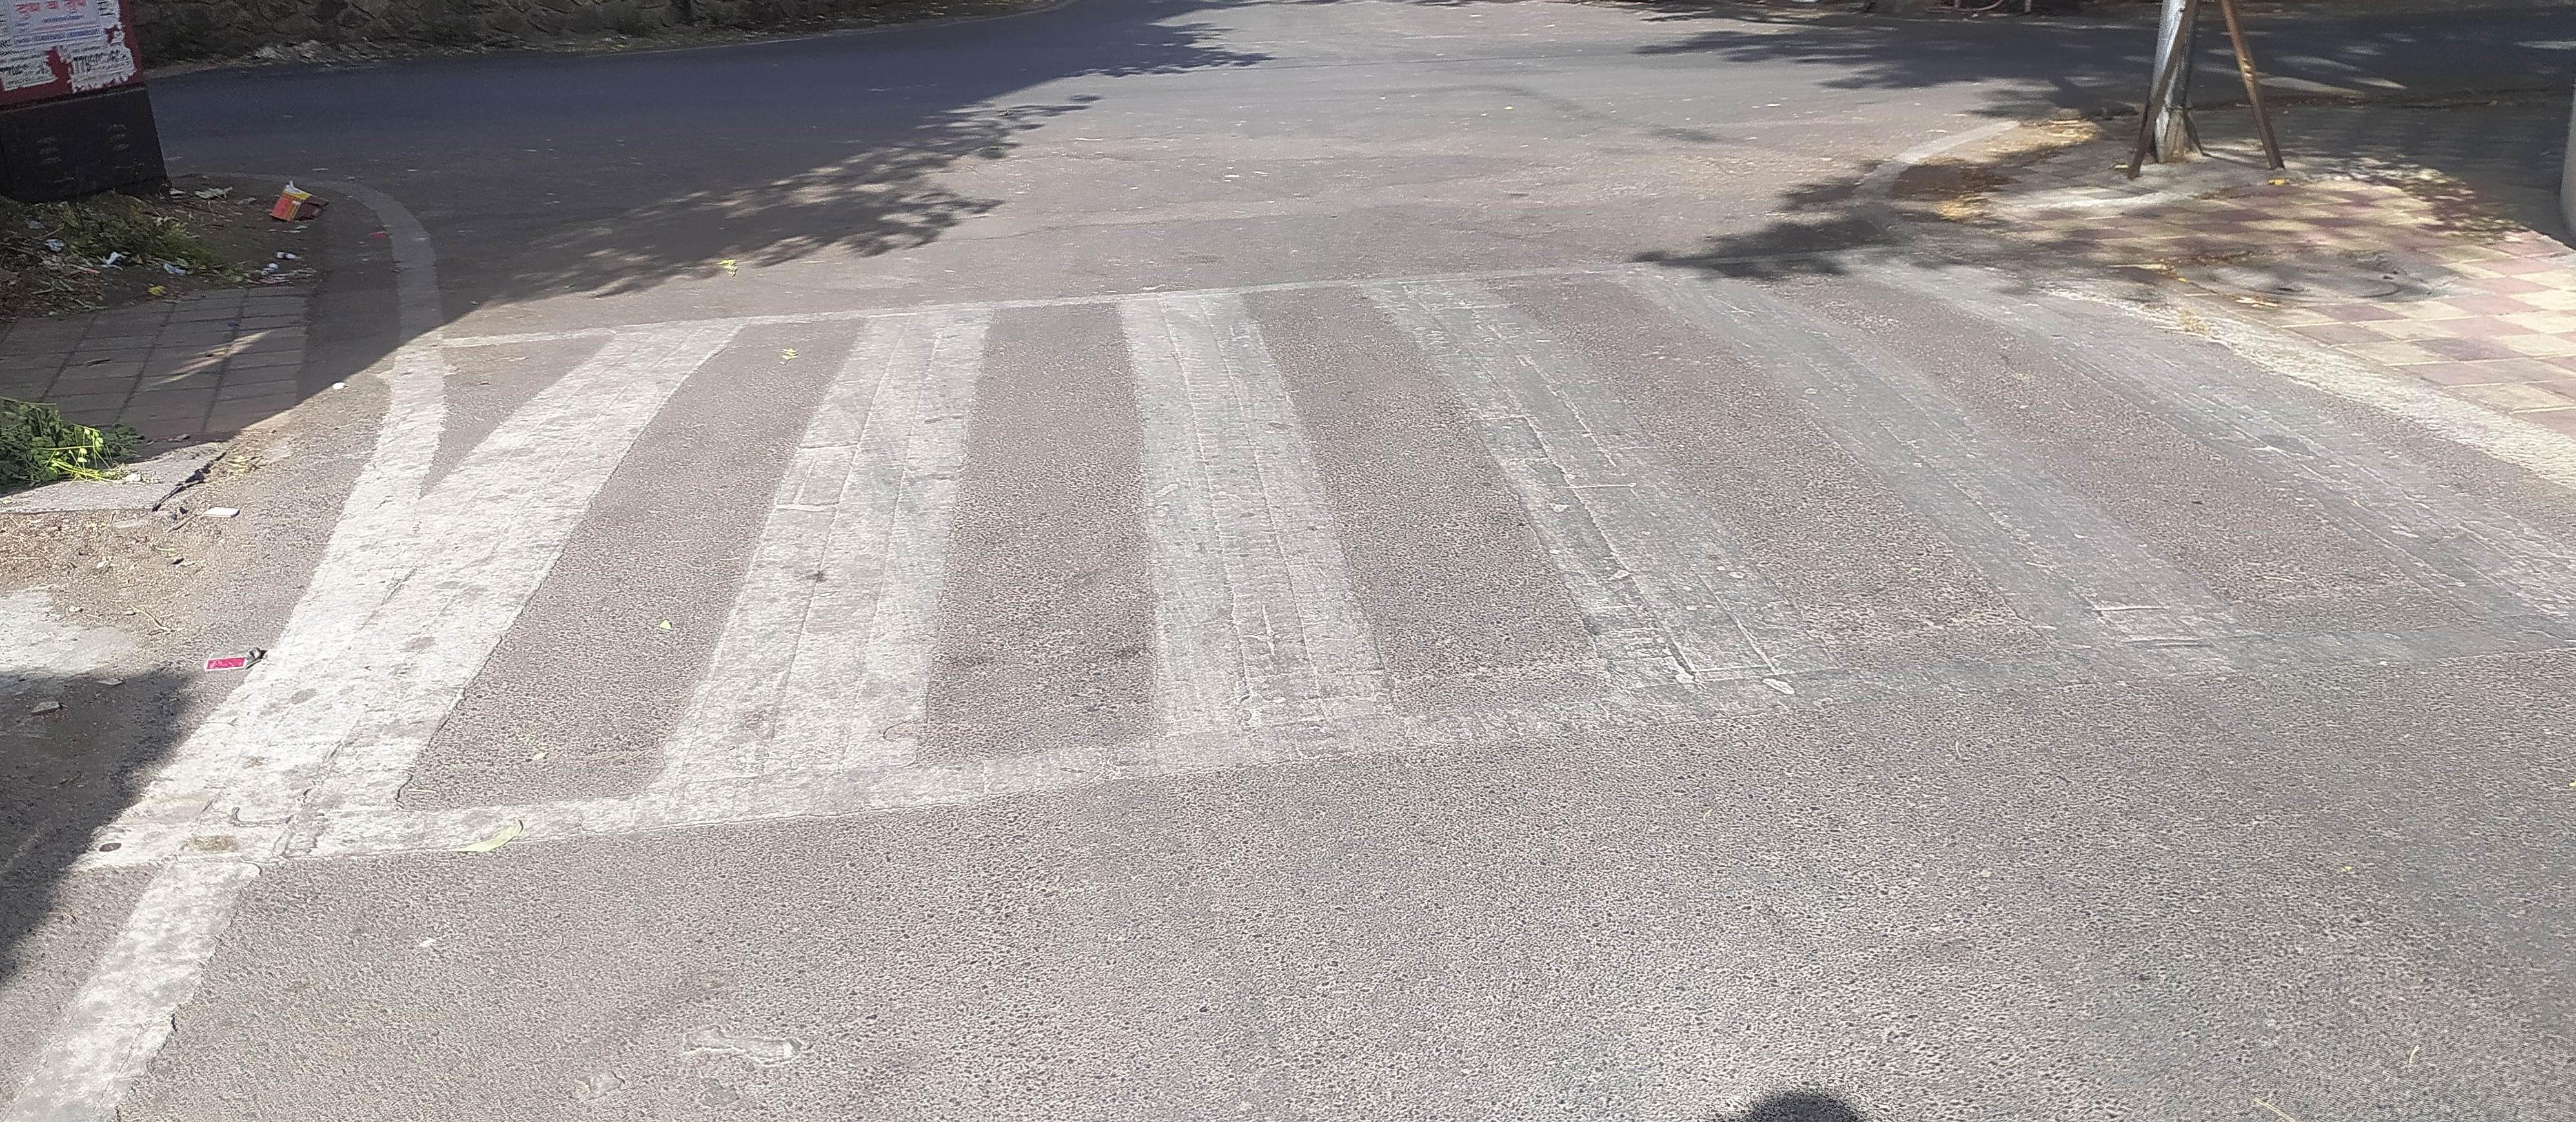speed-bump: (201, 217, 2571, 830)
